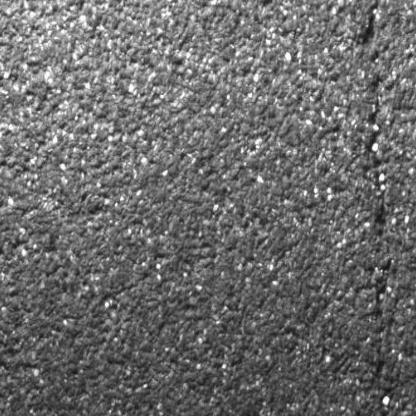Cracks: (355, 0, 394, 416)
